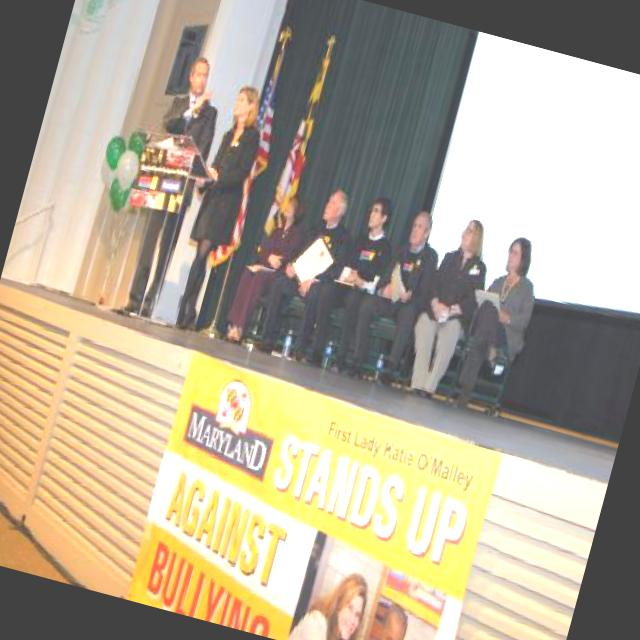Person: (112, 49, 234, 319), (153, 79, 274, 339), (253, 176, 364, 364), (342, 202, 453, 390), (396, 213, 501, 405), (301, 186, 405, 374), (450, 230, 551, 420), (220, 183, 312, 350), (288, 558, 375, 640), (355, 592, 417, 640)
